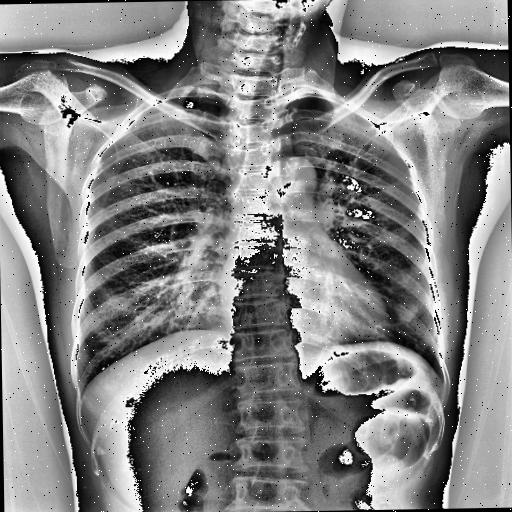0- Aortic enlargement: (255, 155, 320, 203)
11- Pleural thickening: (188, 93, 228, 111)
7- Lung Opacity: (392, 300, 420, 322)
8- Nodule-Mass: (394, 302, 420, 324), (394, 302, 419, 322)
9- Other lesion: (392, 300, 420, 322)
